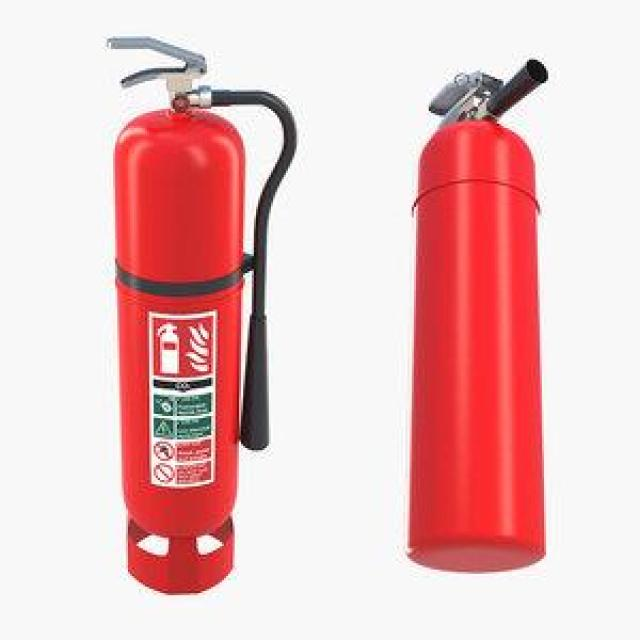Fire-Extinguisher: (101, 26, 297, 598), (398, 57, 554, 574)
